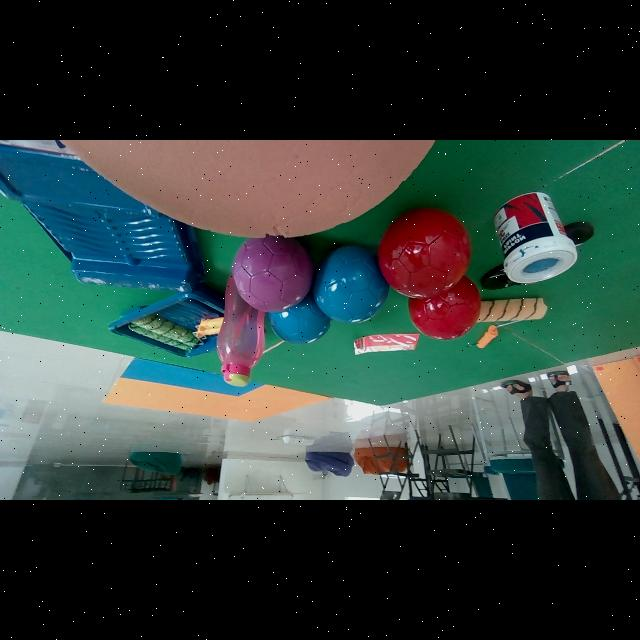B: (313, 247, 389, 323), (269, 292, 332, 345)
P: (232, 236, 314, 312)
R: (378, 209, 471, 297), (408, 277, 481, 339)
